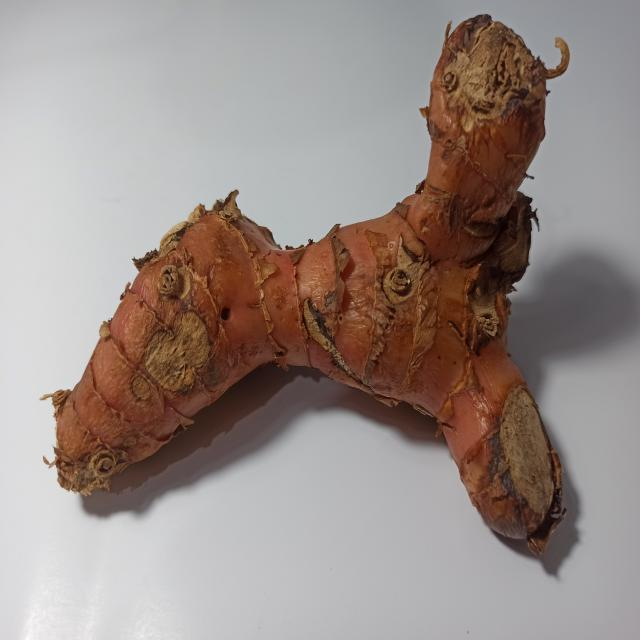ginger: (68, 28, 549, 506)
